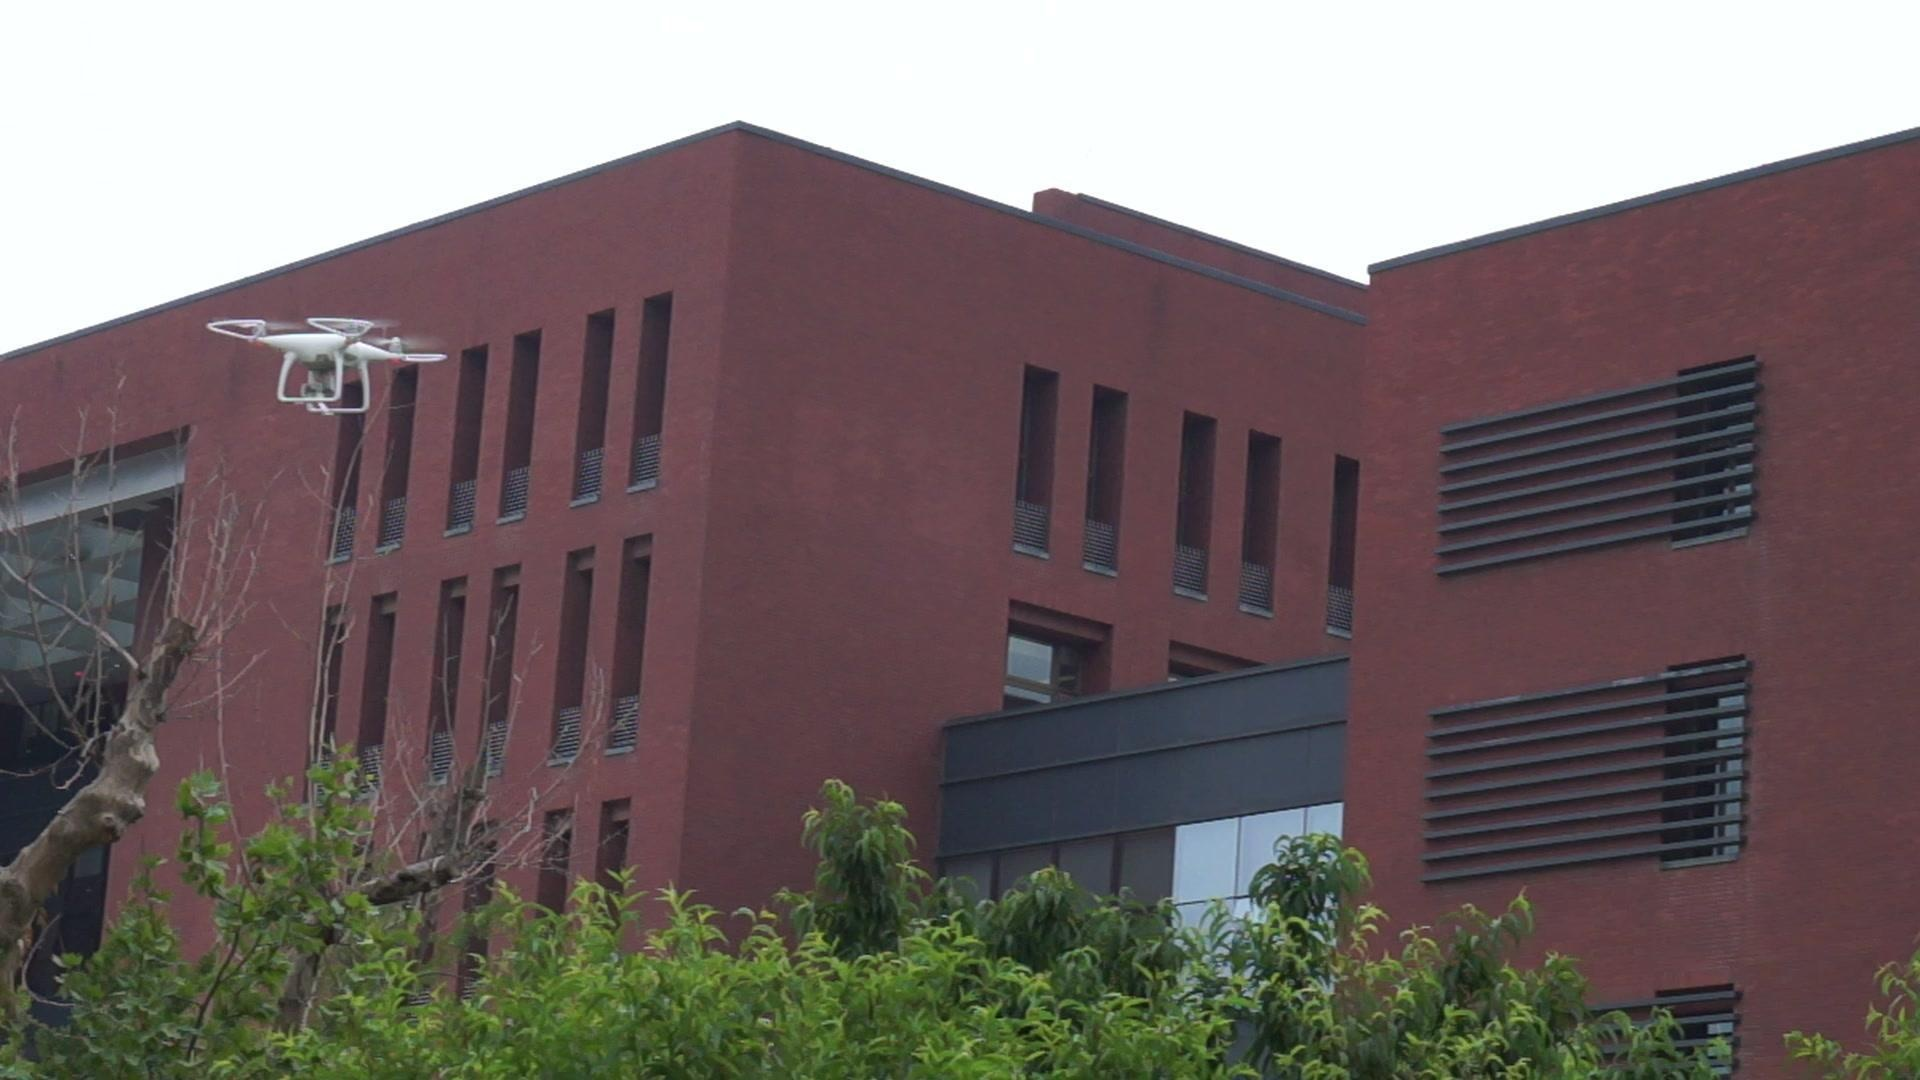UAV: (206, 316, 450, 417)
